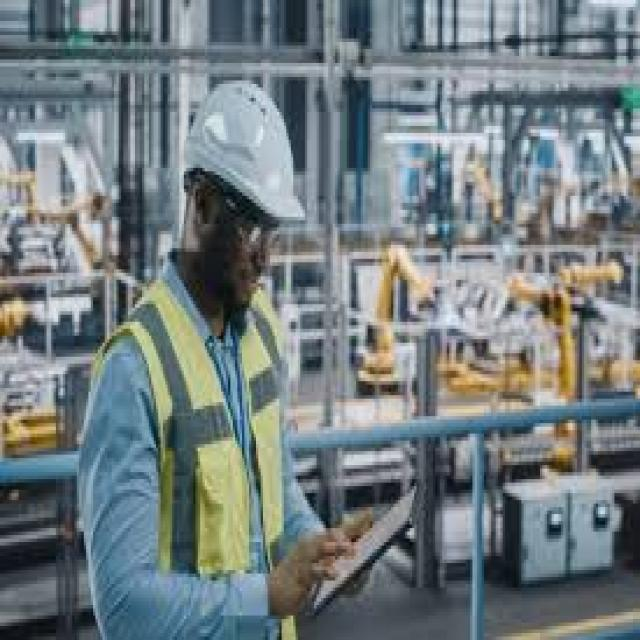Reflective-Jacket: (84, 276, 307, 633)
Safety-Helmet: (163, 70, 314, 234)
